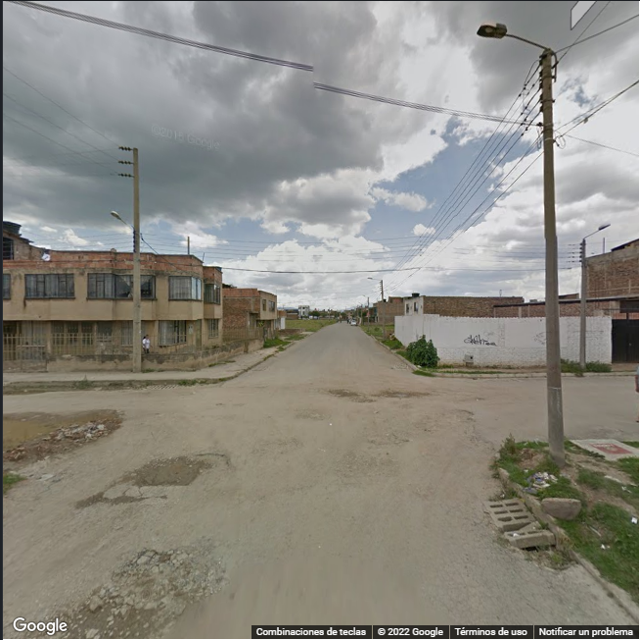D00: (179, 416, 236, 494)
D40: (104, 521, 138, 548)
